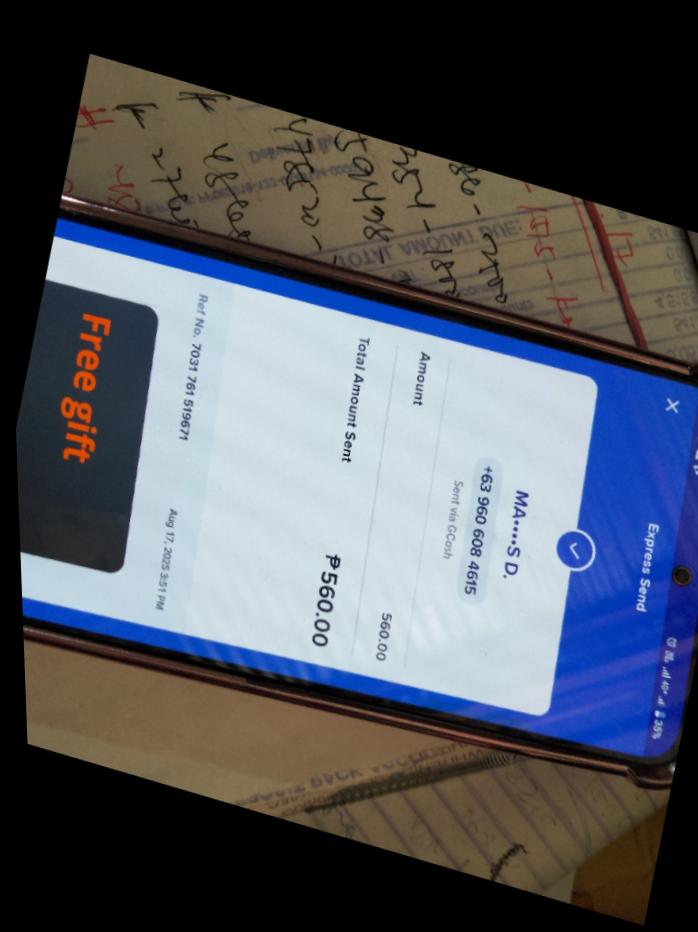Receipt: (16, 218, 693, 753)
